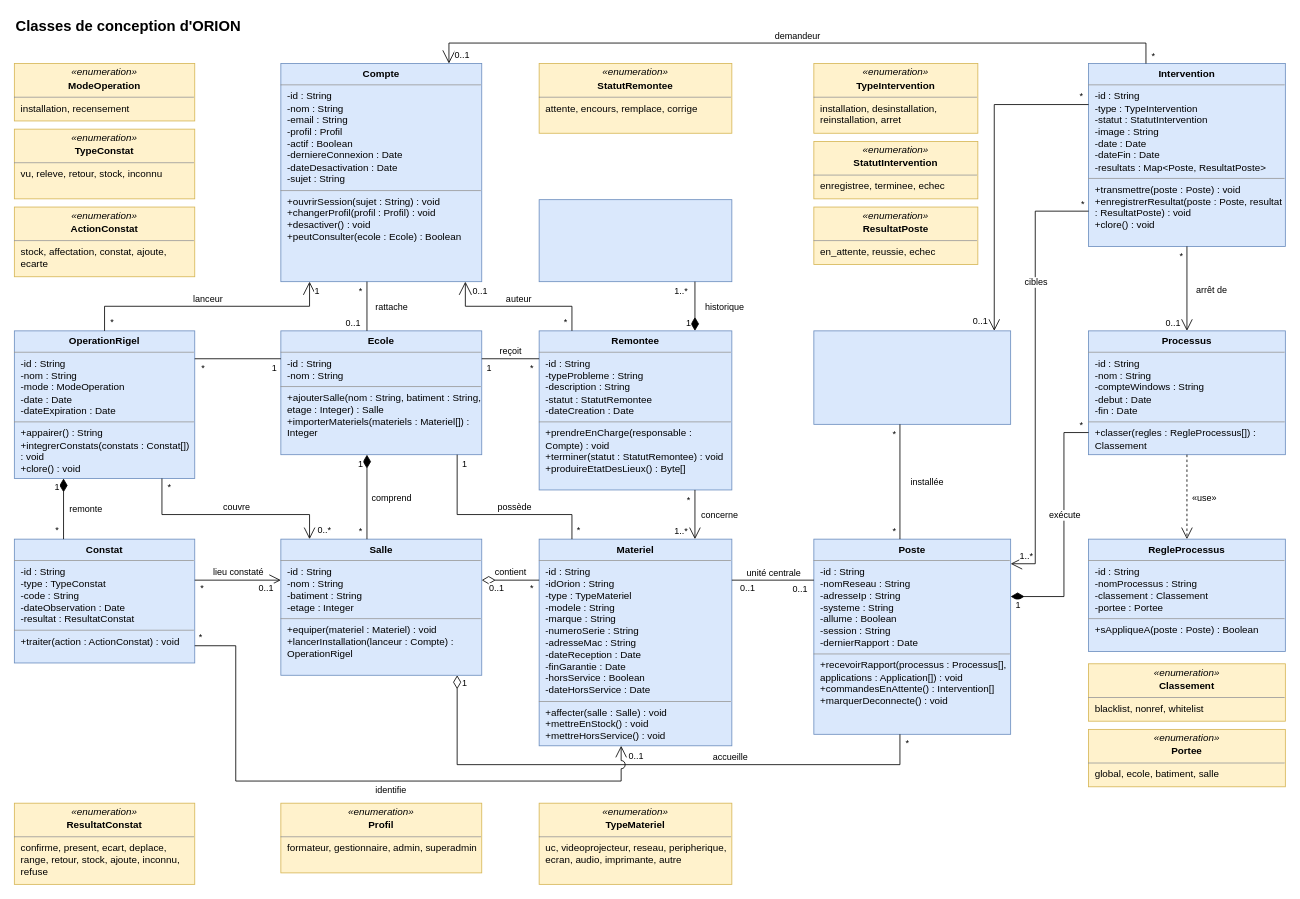
The diagram is 1300 pixels wide and 899 high, and some of its shapes have lost their labels. The shapes that lost their labels are listed below. From the top down, each one's centre as x and y in pixels, then its label:
At point (635, 240): "EtapeRemontee -statut : StatutRemontee -date : Date -auteur : String".
At point (912, 377): "Application -id : String -nom : String -version : String -editeur : String".
